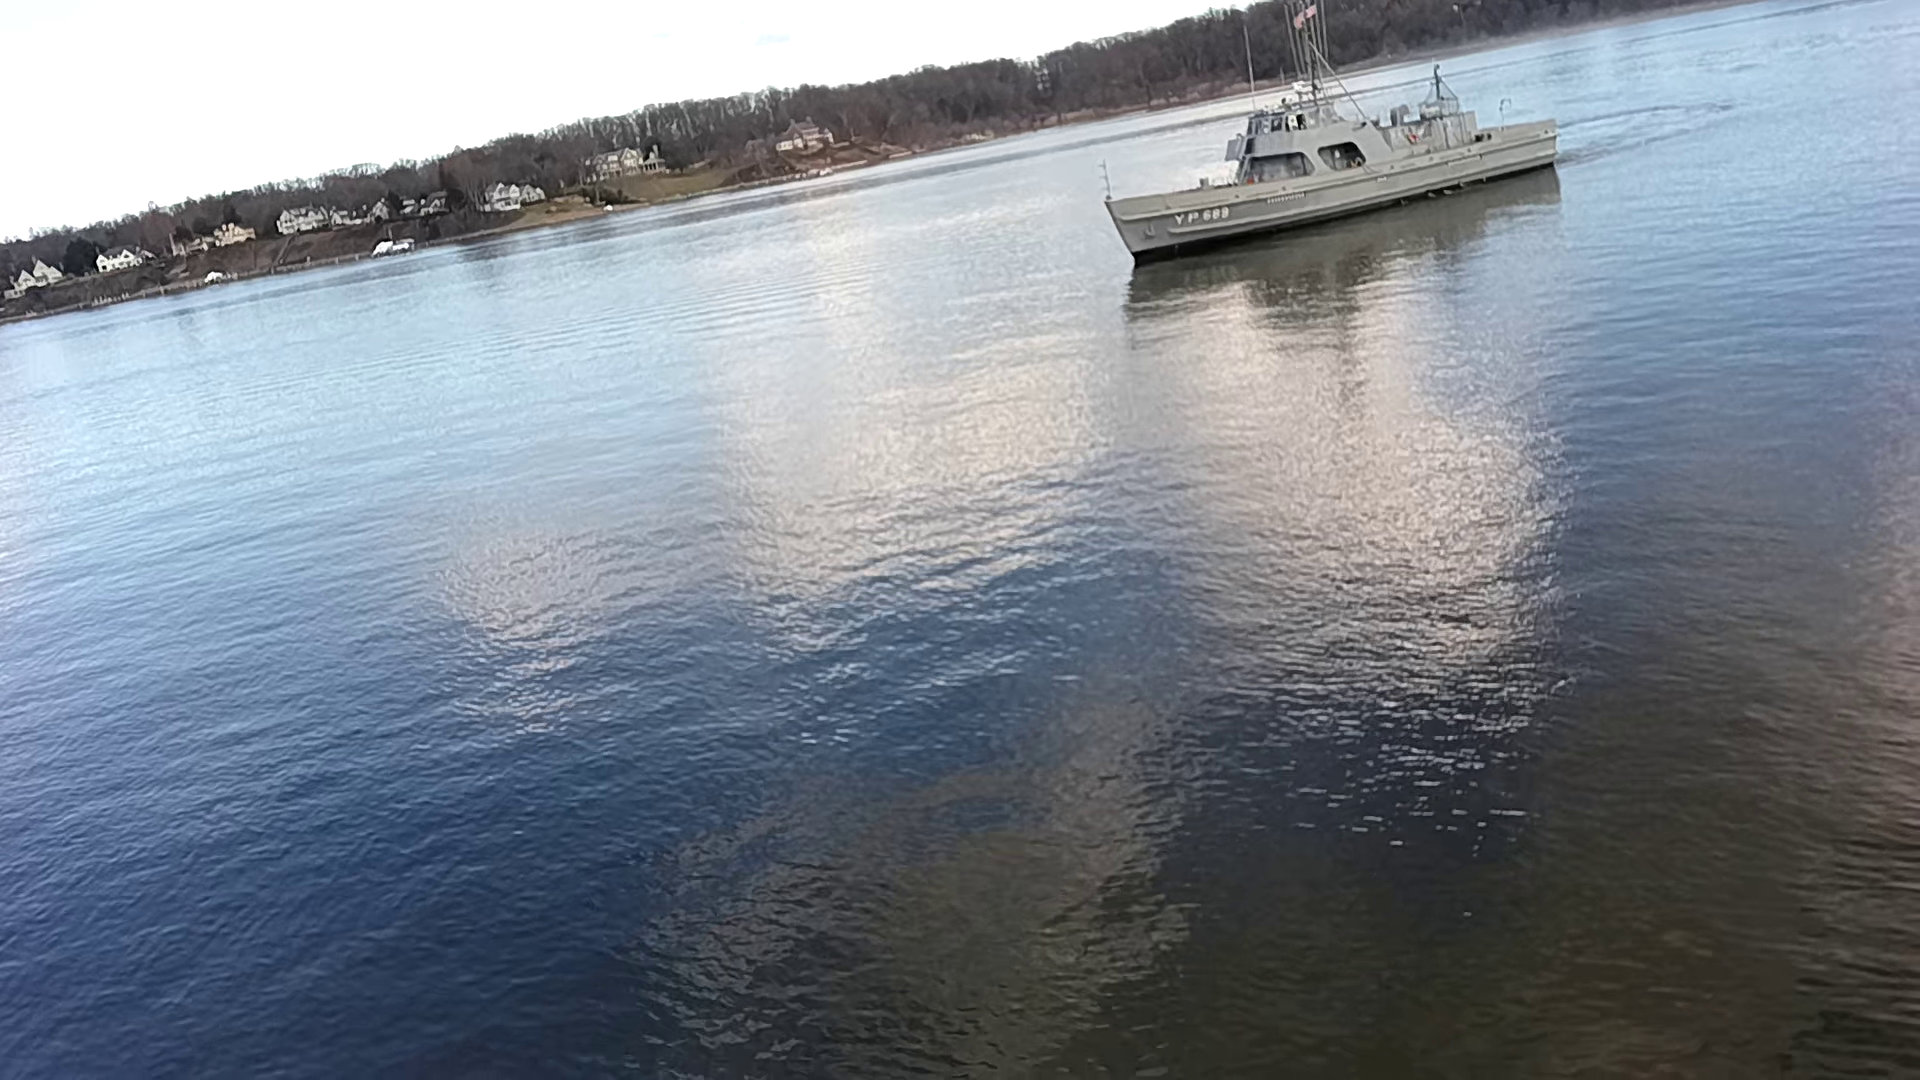YP689: (1102, 1, 1560, 264)
